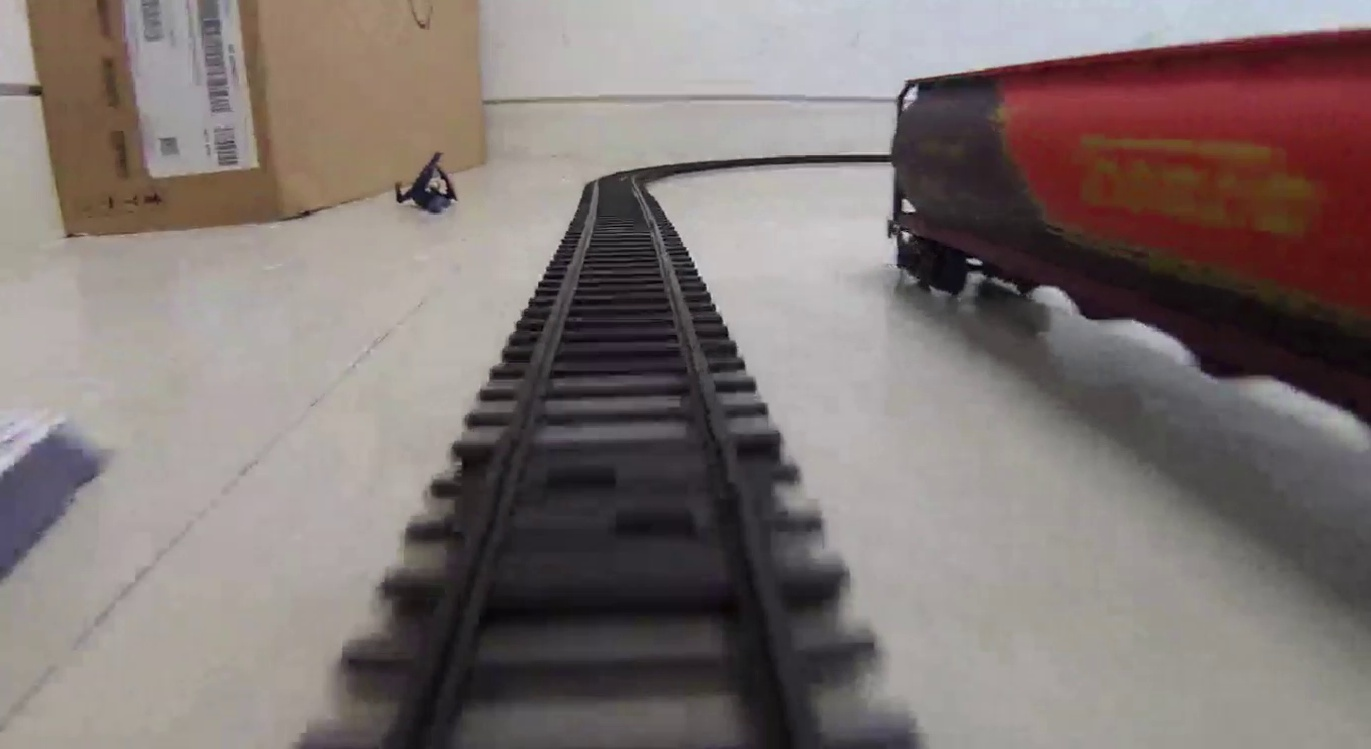people: (396, 152, 460, 217)
